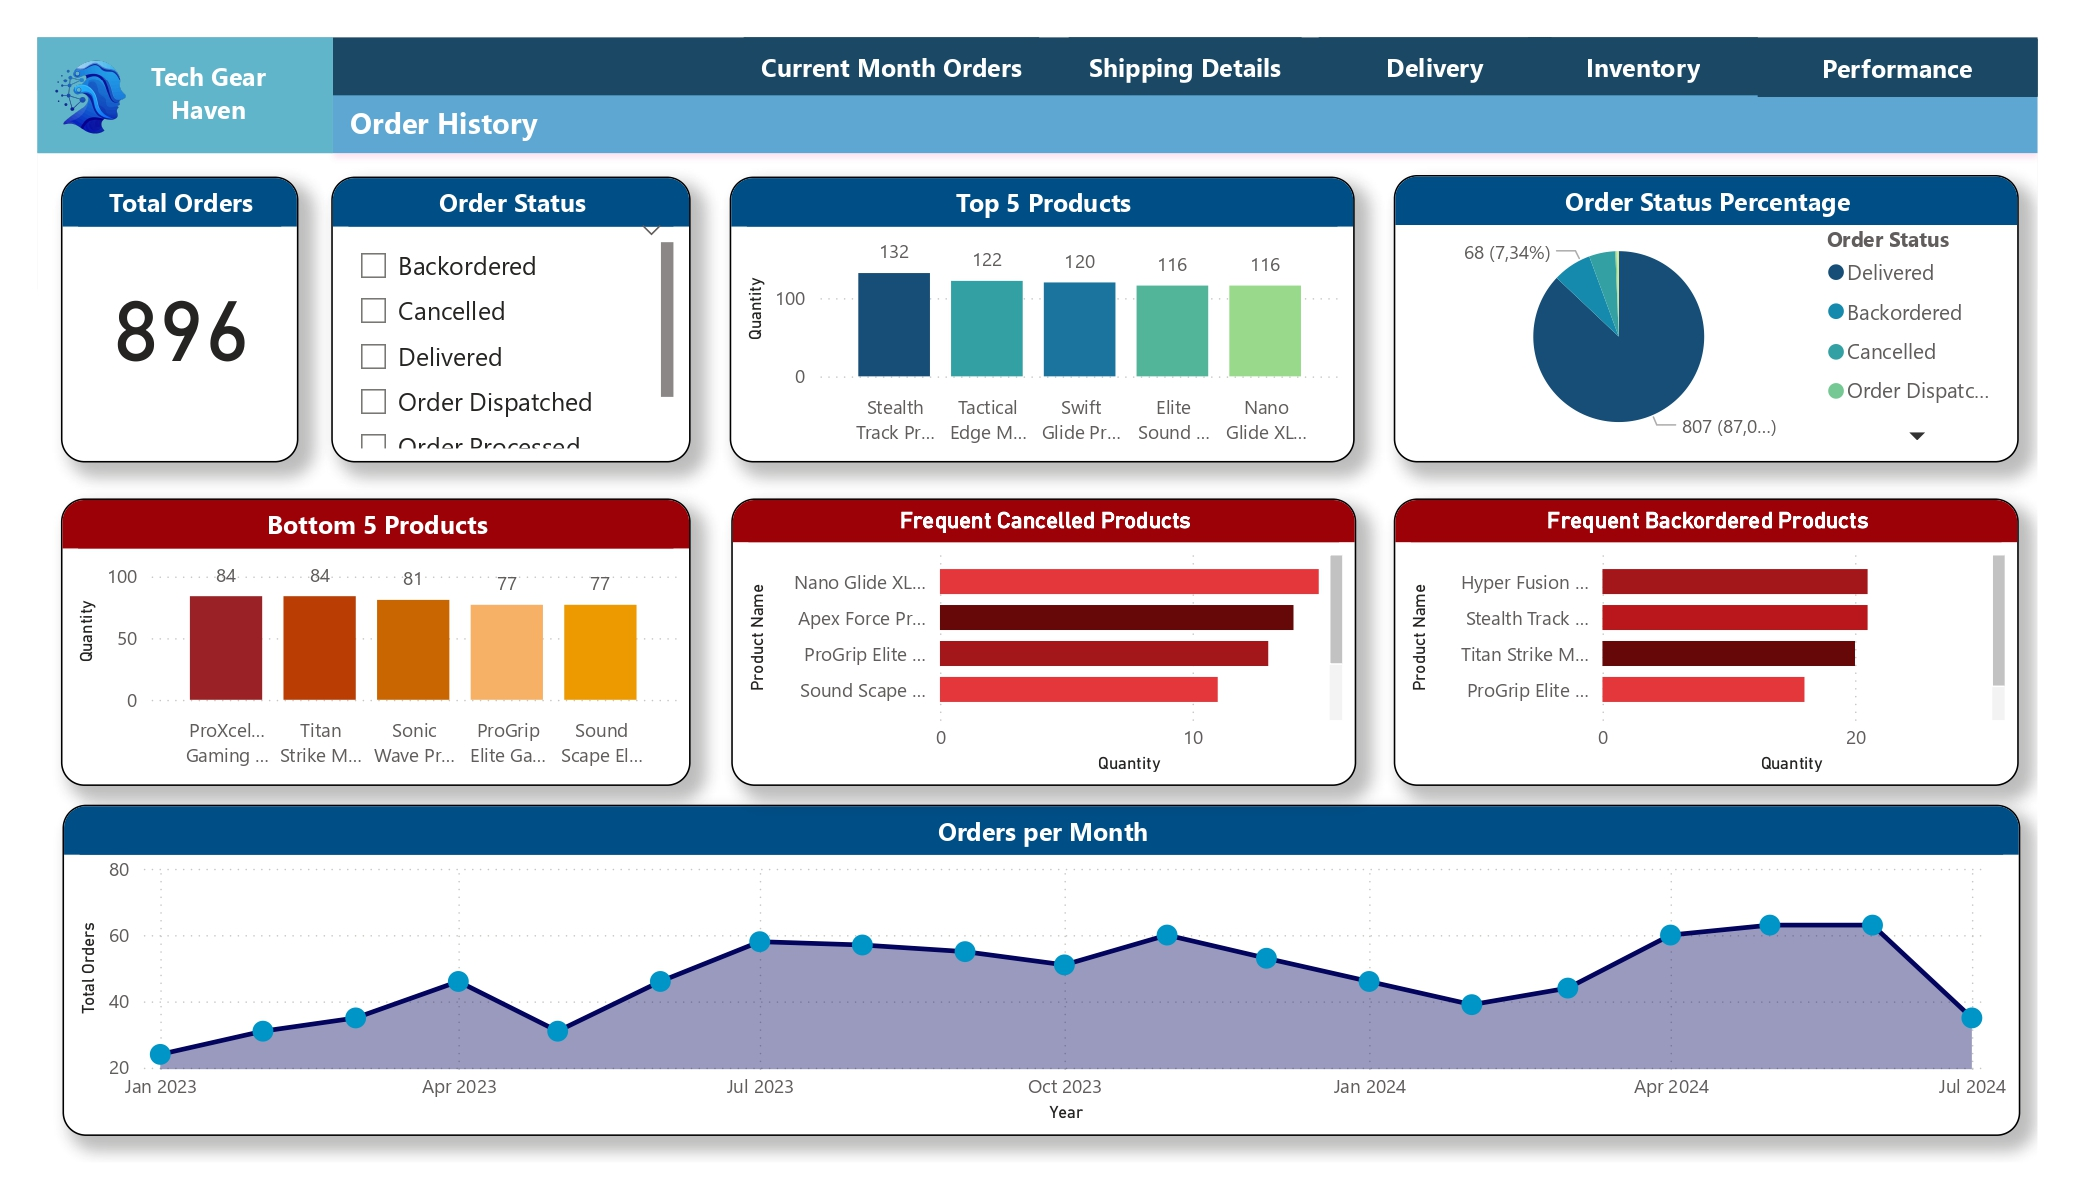

The page's visual inventory and layout, read from the dashboard file:
{"tool":"powerbi","page":{"name":"Order History","canvas":[1280,720],"ordinal":2},"visuals":[{"type":"shape","title":"Horizontal Shape","box":[188.9,36.2,1090.8,37.5],"z":0},{"type":"shape","title":"Horizontal Shape","box":[189.1,0.2,1090.4,36.9],"z":1000},{"type":"shape","box":[0,0,188.9,74.4],"z":2000},{"type":"image","box":[0,5.6,66.7,64.4],"z":3000},{"type":"textbox","title":"Report Title","box":[195.2,37.2,438.7,36.5],"z":4000},{"type":"textbox","box":[51.8,9.1,115.2,56.9],"z":5000},{"type":"card","title":"Total Orders","fields":{"Values":["Count(Orders.OrderID)"]},"box":[15,88.5,151.7,183.3],"z":6000},{"type":"slicer","title":"Order Status","fields":{"Values":["Orders.Order Status"]},"box":[188.3,88.5,230,183.3],"z":7000},{"type":"clusteredColumnChart","title":"Top 5 Products","fields":{"Category":["Orders.Product Name"],"Y":["Sum(Orders.Order Quantity)"]},"box":[443.3,88.5,400,183.3],"z":8000},{"type":"pieChart","title":"Order Status Percentage","fields":{"Category":["Orders.Order Status"],"Y":["CountNonNull(Orders.Order Status)"]},"box":[868.3,88,399.8,183.7],"z":9000},{"type":"clusteredColumnChart","title":"Bottom 5 Products","fields":{"Category":["Orders.Product Name"],"Y":["Sum(Orders.Order Quantity)"]},"box":[15,295.2,403.3,183.3],"z":10000},{"type":"clusteredBarChart","title":"Frequent Backordered  Products","fields":{"Category":["Orders.Product Name"],"Y":["Sum(Orders.Order Quantity)"]},"box":[868.3,295.2,400,183.3],"z":11000},{"type":"stackedAreaChart","title":"Orders per Month","fields":{"Category":["Orders.Order Date.Variation.Date Hierarchy.Year","Orders.Order Date.Variation.Date Hierarchy.Month"],"Y":["Count(Orders.OrderID)"]},"box":[15.7,491.4,1252.9,211.4],"z":12000},{"type":"pageNavigator","box":[820.4,0,148.8,36.2],"z":13000},{"type":"pageNavigator","box":[451.6,0,188.9,36.2],"z":14000},{"type":"pageNavigator","box":[659.9,0,148.8,36.2],"z":15000},{"type":"pageNavigator","box":[953.7,0,147.5,36.2],"z":16000},{"type":"clusteredBarChart","title":"Frequent Cancelled  Products","fields":{"Category":["Orders.Product Name"],"Y":["Sum(Orders.Order Quantity)"]},"box":[443.8,295,399.8,183.7],"z":17000},{"type":"pageNavigator","box":[1101.2,1.3,178.6,36.2],"z":18000}]}

Visuals, with their boxes on the page's 1280x720 design canvas (x1, y1, x2, y2). These are canvas units, not pixel positions in the 2075x1200 screenshot, which may show the page scaled, cropped or inside an application window:
"Horizontal Shape" shape: left=189, top=36, right=1280, bottom=74
"Horizontal Shape" shape: left=189, top=0, right=1280, bottom=37
shape: left=0, top=0, right=189, bottom=74
image: left=0, top=6, right=67, bottom=70
"Report Title" textbox: left=195, top=37, right=634, bottom=74
textbox: left=52, top=9, right=167, bottom=66
"Total Orders" card: left=15, top=88, right=167, bottom=272
"Order Status" slicer: left=188, top=88, right=418, bottom=272
"Top 5 Products" clusteredColumnChart: left=443, top=88, right=843, bottom=272
"Order Status Percentage" pieChart: left=868, top=88, right=1268, bottom=272
"Bottom 5 Products" clusteredColumnChart: left=15, top=295, right=418, bottom=478
"Frequent Backordered  Products" clusteredBarChart: left=868, top=295, right=1268, bottom=478
"Orders per Month" stackedAreaChart: left=16, top=491, right=1269, bottom=703
pageNavigator: left=820, top=0, right=969, bottom=36
pageNavigator: left=452, top=0, right=640, bottom=36
pageNavigator: left=660, top=0, right=809, bottom=36
pageNavigator: left=954, top=0, right=1101, bottom=36
"Frequent Cancelled  Products" clusteredBarChart: left=444, top=295, right=844, bottom=479
pageNavigator: left=1101, top=1, right=1280, bottom=38
